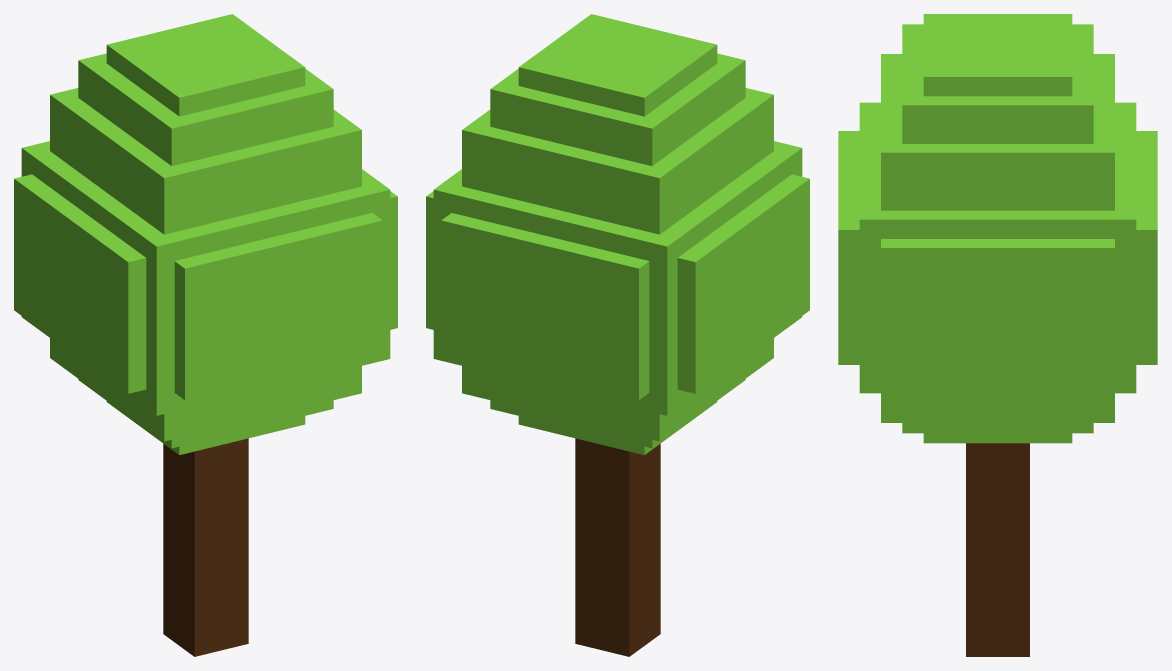
File: Apple_Tree (Stage 5).obj
3 renders of one model, left to right at view 1: azimuth 30°, elevation 25°; view 2: azimuth 150°, elevation 25°; view 3: azimuth 270°, elevation 25°, orthographic. The views are drawn at different scales.
Bounding box in the file's own units: 1.5 × 3.1 × 1.5.
Materials: 1 (1 with a texture image).
